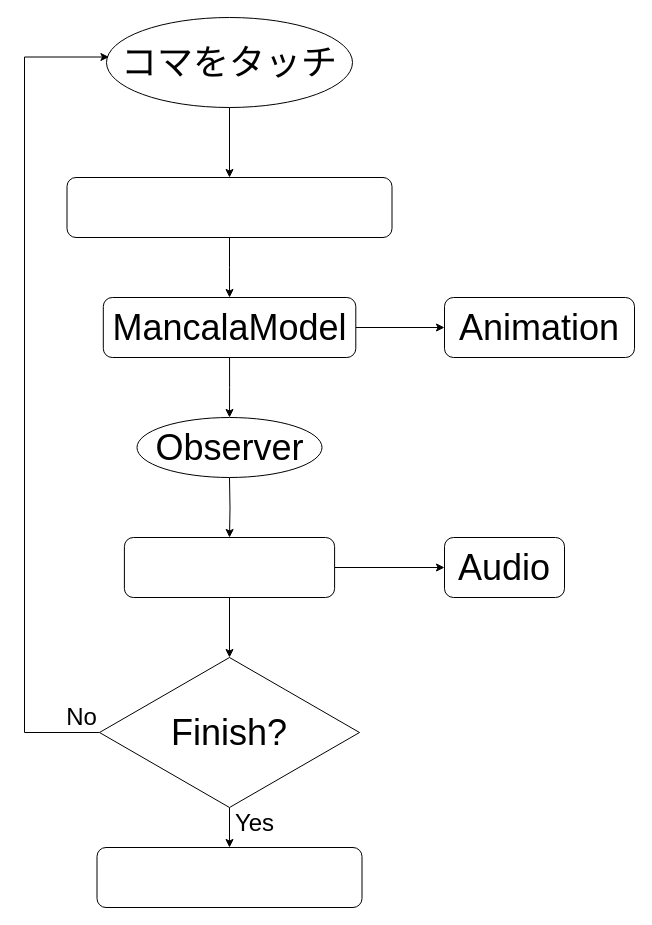
The diagram is 652 pixels wide and 925 high, and some of its shapes have lost their labels. Here are the shapes that lost their labels. From the top down, the centre of each, then its label:
point 229,207: MancalaController
point 229,567: ViwePanel
point 229,877: ChangePanel
